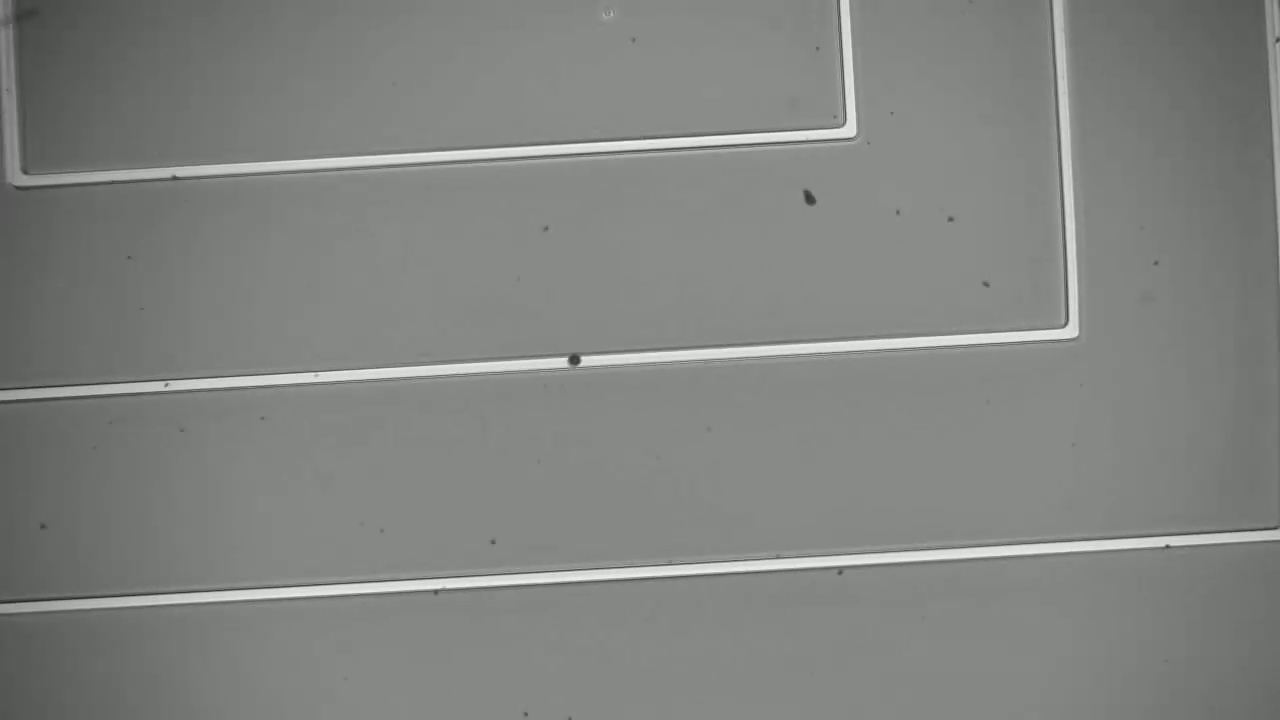stains_enbedded: (560, 344, 586, 374)
